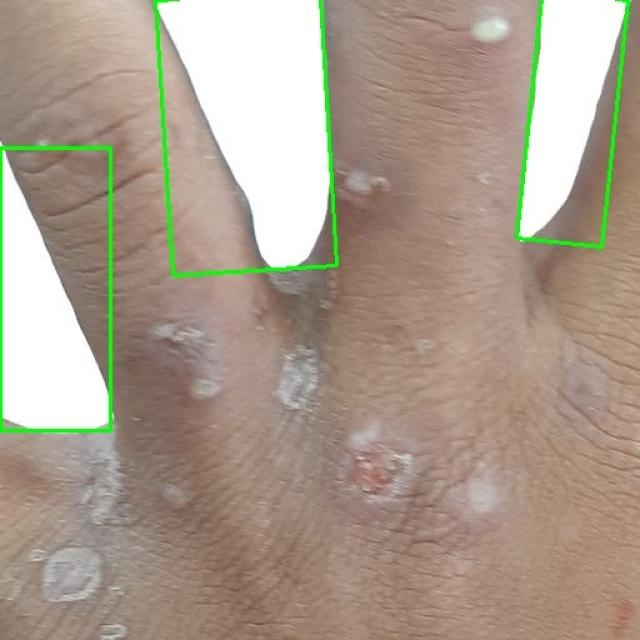Scabies: (156, 0, 337, 275), (0, 148, 111, 431), (517, 0, 628, 247)
